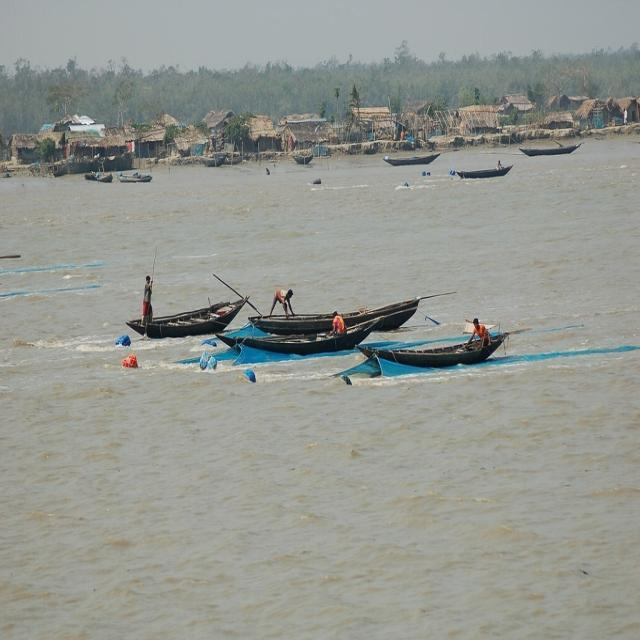boat: (224, 316, 395, 361), (119, 296, 250, 340), (364, 334, 518, 370), (452, 164, 520, 184), (514, 144, 582, 159), (118, 172, 160, 190), (385, 154, 439, 168), (289, 149, 317, 170), (81, 173, 116, 186)
